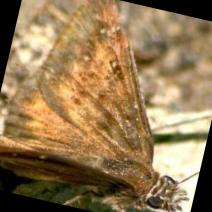butterfly: (0, 0, 186, 212)
